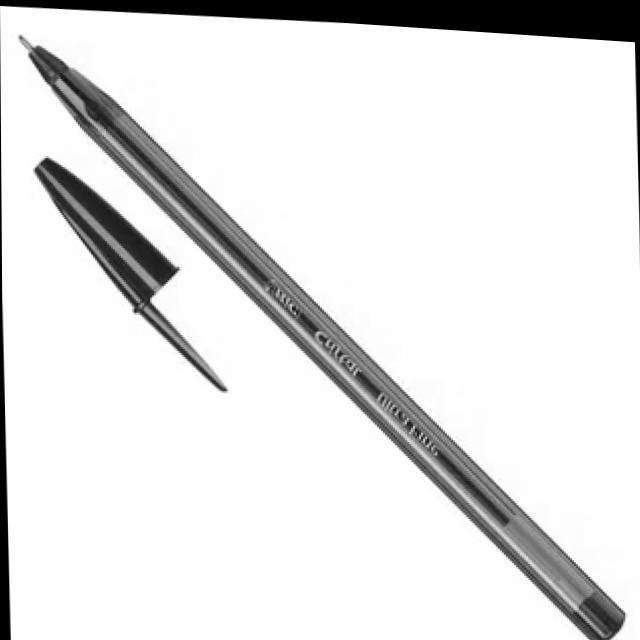pen: (19, 24, 621, 640)
